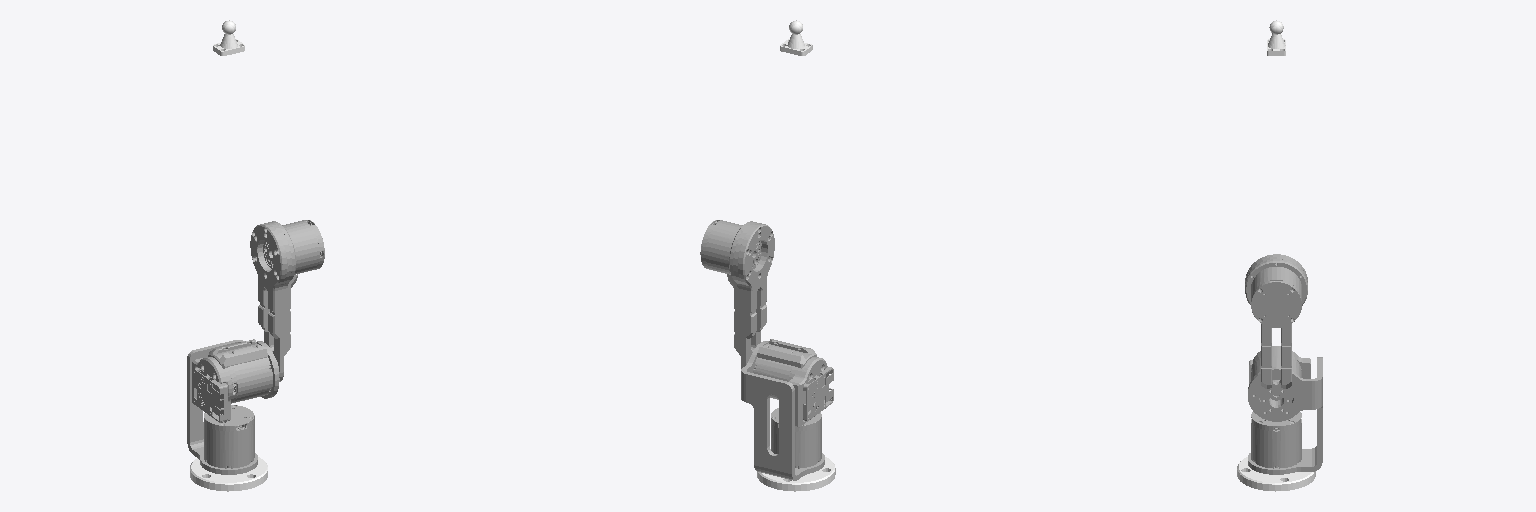
The robot description file, URDF, robot "mini1":
<?xml version="1.0" encoding="utf-8"?>
<!-- This URDF was automatically created by SolidWorks to URDF Exporter! Originally created by [author] ([email redacted]) 
     Commit Version: 1.6.0-4-g7f85cfe  Build Version: 1.6.7995.38578
     For more information, please see http://wiki.ros.org/sw_urdf_exporter -->
<robot
  name="mini1">
  <link
    name="base_link">
    <inertial>
      <origin
        xyz="1.9762E-15 2.3176E-15 0.014059"
        rpy="3.1415926535 0 0" />
      <mass
        value="0.0619431" />
      <inertia
        ixx="2.9645E-05"
        ixy="0"
        ixz="0"
        iyy="2.9645E-05"
        iyz="0"
        izz="5.7155E-05" />
    </inertial>
    <visual>
      <origin
        xyz="0 0 0"
        rpy="3.1415926535 0 0" />
      <geometry>
        <mesh
          filename="package://arm_description/meshes/base_link.STL" />
      </geometry>
      <material
        name="">
        <color
          rgba="1 1 1 1" />
      </material>
    </visual>
    <collision>
      <origin
        xyz="0 0 0"
        rpy="3.1415926535 0 0" />
      <geometry>
        <mesh
          filename="package://arm_description/meshes/base_link.STL" />
      </geometry>
    </collision>
  </link>
  <link
    name="link1">
    <inertial>
      <origin
        xyz="0.009526 -0.018612 -0.05946"
        rpy="0 0 0" />
      <mass
        value="1.281922" />
      <inertia
        ixx="0.0029041"
        ixy="-4.89E-05"
        ixz="0.0004728"
        iyy="0.0026898"
        iyz="2.42E-05"
        izz="0.001064" />
    </inertial>
    <visual>
      <origin
        xyz="0 0 0"
        rpy="0 0 0" />
      <geometry>
        <mesh
          filename="package://arm_description/meshes/link1.STL" />
      </geometry>
      <material
        name="">
        <color
          rgba="0.75294 0.75294 0.75294 1" />
      </material>
    </visual>
    <collision>
      <origin
        xyz="0 0 0"
        rpy="0 0 0" />
      <geometry>
        <mesh
          filename="package://arm_description/meshes/link1.STL" />
      </geometry>
    </collision>
  </link>
  <joint
    name="joint1"
    type="revolute">
    <origin
      xyz="0 0 0"
      rpy="3.1415926535 0 0" />
    <parent
      link="base_link" />
    <child
      link="link1" />
    <axis
      xyz="0 0 -1" />
    <limit
      lower="-3.1415926535"
      upper="3.1415926535"
      effort="9.0"
      velocity="18.0" />
  </joint>
  <link
    name="link2">
    <inertial>
      <origin
        xyz="0.095882 -2.8714E-05 0.022099"
        rpy="0 0 0" />
      <mass
        value="0.6490414" />
      <inertia
        ixx="0.0001875"
        ixy="1E-06"
        ixz="-0.000202"
        iyy="0.001536"
        iyz="6E-07"
        izz="0.0015362" />
    </inertial>
    <visual>
      <origin
        xyz="0 0 0"
        rpy="0 0 0" />
      <geometry>
        <mesh
          filename="package://arm_description/meshes/link2.STL" />
      </geometry>
      <material
        name="">
        <color
          rgba="0.75294 0.75294 0.75294 1" />
      </material>
    </visual>
    <collision>
      <origin
        xyz="0 0 0"
        rpy="0 0 0" />
      <geometry>
        <mesh
          filename="package://arm_description/meshes/link2.STL" />
      </geometry>
    </collision>
  </link>
  <joint
    name="joint2"
    type="revolute">
    <origin
      xyz="0.04155 0 -0.09955"
      rpy="0 1.5708 0" />
    <parent
      link="link1" />
    <child
      link="link2" />
    <axis
      xyz="0 0 1" />
    <limit
      lower="-1.1570796"
      upper="1.1570796"
      effort="9.0"
      velocity="18.0" />
  </joint>
  <link
    name="link3">
    <inertial>
      <origin
        xyz="0.017873 0.0064591 0.042102"
        rpy="0 0 0" />
      <mass
        value="0.6418803" />
      <inertia
        ixx="0.0005684"
        ixy="0.0001154"
        ixz="5.35E-05"
        iyy="0.0005702"
        iyz="-7.75E-05"
        izz="0.0006002" />
    </inertial>
    <visual>
      <origin
        xyz="0 0 0"
        rpy="0 0 3.14" />
      <geometry>
        <mesh
          filename="package://arm_description/meshes/link3.STL" />
      </geometry>
      <material
        name="">
        <color
          rgba="0.75294 0.75294 0.75294 1" />
      </material>
    </visual>
    <collision>
      <origin
        xyz="0 0 0"
        rpy="0 0 0" />
      <geometry>
        <mesh
          filename="package://arm_description/meshes/link3.STL" />
      </geometry>
    </collision>
  </link>
  <joint
    name="joint3"
    type="revolute">
    <origin
      xyz="0.14 0 0.01245"
      rpy="3.1416 0 1.5708" />
    <parent
      link="link2" />
    <child
      link="link3" />
    <axis
      xyz="0 0 1" />
    <limit
      lower="-2.7925"
      upper="0.1"
      effort="9.0"
      velocity="18.0" />
  </joint>
  <link
    name="link4">
    <inertial>
      <origin
        xyz="0.00010149 -0.00081877 0.13234"
        rpy="0 0 0" />
      <mass
        value="0.4931137" />
      <inertia
        ixx="0.0010794"
        ixy="-6E-07"
        ixz="2.3E-06"
        iyy="0.0010191"
        iyz="-5.29E-05"
        izz="0.0002491" />
    </inertial>
    <visual>
      <origin
        xyz="0 0 0"
        rpy="0 0 3.14" />
      <geometry>
        <mesh
          filename="package://arm_description/meshes/link4.STL" />
      </geometry>
      <material
        name="">
        <color
          rgba="0.75294 0.75294 0.75294 1" />
      </material>
    </visual>
    <collision>
      <origin
        xyz="0 0 0"
        rpy="0 0 0" />
      <geometry>
        <mesh
          filename="package://arm_description/meshes/link4.STL" />
      </geometry>
    </collision>
  </link>
  <joint
    name="joint4"
    type="revolute">
    <origin
      xyz="0 0.012 0.054"
      rpy="1.5708 0 3.1416" />
    <parent
      link="link3" />
    <child
      link="link4" />
    <axis
      xyz="0 0 1" />
    <limit
      lower="-1.57"
      upper="1.57"
      effort="3.5"
      velocity="18.0" />
  </joint>
  <link
    name="link5">
    <inertial>
      <origin
        xyz="2.723E-05 0.039361 0.007802"
        rpy="0 0 0" />
      <mass
        value="0.4978364" />
      <inertia
        ixx="0.000481"
        ixy="1E-07"
        ixz="1E-07"
        iyy="0.0002856"
        iyz="0.0001376"
        izz="0.0003811" />
    </inertial>
    <visual>
      <origin
        xyz="0 0 0"
        rpy="0 3.14 0" />
      <geometry>
        <mesh
          filename="package://arm_description/meshes/link5.STL" />
      </geometry>
      <material
        name="">
        <color
          rgba="0.75294 0.75294 0.75294 1" />
      </material>
    </visual>
    <collision>
      <origin
        xyz="0 0 0"
        rpy="0 0 0" />
      <geometry>
        <mesh
          filename="package://arm_description/meshes/link5.STL" />
      </geometry>
    </collision>
  </link>
  <joint
    name="joint5"
    type="revolute">
    <origin
      xyz="0 -0.007 0.165"
      rpy="1.5708 0 0" />
    <parent
      link="link4" />
    <child
      link="link5" />
    <axis
      xyz="0 0 -1" />
    <limit
      lower="-2.356194"
      upper="2.356194"
      effort="3.5"
      velocity="18.0" />
  </joint>
  <link
    name="link6">
    <inertial>
      <origin
        xyz="-1.7208E-15 -6.9611E-16 0.011978"
        rpy="0 0 0" />
      <mass
        value="1.02E-06" />
      <inertia
        ixx="1.3E-06"
        ixy="0"
        ixz="0"
        iyy="1.20E-06"
        iyz="0"
        izz="6E-07" />
    </inertial>
    <visual>
      <origin
        xyz="0 0 0"
        rpy="0 0 0" />
      <geometry>
        <mesh
          filename="package://arm_description/meshes/link6.STL" />
      </geometry>
      <material
        name="">
        <color
          rgba="1 1 1 1" />
      </material>
    </visual>
    <collision>
      <origin
        xyz="0 0 0"
        rpy="0 0 0" />
      <geometry>
        <mesh
          filename="package://arm_description/meshes/link6.STL" />
      </geometry>
    </collision>
  </link>
  <joint
    name="joint6"
    type="revolute">
    <origin
      xyz="0 0.0875 -0.007"
      rpy="-1.5708 0 0" />
    <parent
      link="link5" />
    <child
      link="link6" />
    <axis
      xyz="0 0 1" />
    <limit
      lower="-3.1415926535"
      upper="3.1415926535"
      effort="3.5"
      velocity="18.0" />
  </joint>
</robot>

--- What the picture shows (computed from the rendered views, not written in the file) ---
3 views of the same robot in one strip: view 1: azimuth 30°, elevation 25°; view 2: azimuth 150°, elevation 25°; view 3: azimuth 270°, elevation 25° (orthographic).
Model mini1 with 7 links and 6 joints (6 revolute), rooted at base_link, posed every joint at zero.
Links seen in each view (by area): view 1: link1, link2, base_link, link6; view 2: link1, link2, base_link, link6; view 3: link1, link2, base_link, link6.
Boxes of the visible links, <box> form: link1: <box>187,339,279,474</box>; link2: <box>250,220,324,381</box>; base_link: <box>190,457,267,491</box>; link6: <box>213,20,244,55</box>; link1: <box>741,339,833,480</box>; link2: <box>700,220,774,368</box>; base_link: <box>757,457,835,491</box>; link6: <box>780,20,812,55</box>; link1: <box>1248,346,1322,474</box>; link2: <box>1245,254,1307,414</box>; base_link: <box>1237,457,1315,491</box>; link6: <box>1267,20,1285,55</box>.
Bounding box of the posed robot: 0.1513 × 0.0954 × 0.56 m (x, y, z).
4 mesh visuals loaded from 7 distinct referenced files (4 binary STL); not drawn: 3 (reference not matched to a file when rendering).